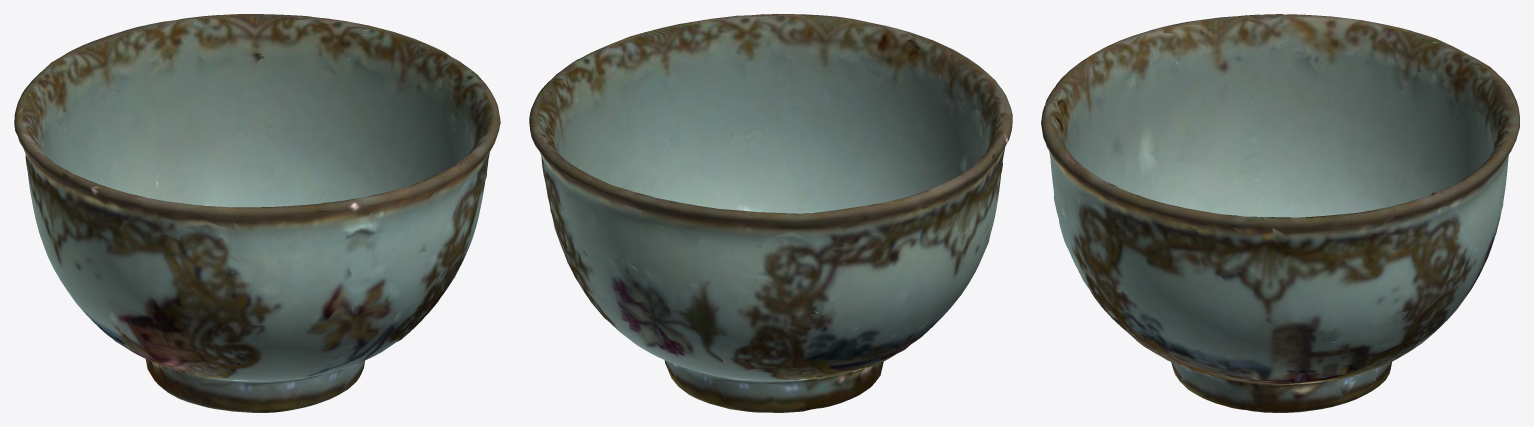
Rendered from bowl.glb.
3 views of the same model, side by side, from view 1: azimuth 30°, elevation 25°; view 2: azimuth 150°, elevation 25°; view 3: azimuth 270°, elevation 25° (orthographic).
Parts seen in each view (by area): view 1: bowl; view 2: bowl; view 3: bowl.
Boxes of the visible parts, x1,y1,x2,y2 form: bowl: (14,14,500,412); bowl: (529,14,1012,412); bowl: (1041,14,1519,412).
Size of the model in its own units: 74.65 by 43.79 by 73.47.
1 material, 1 textured.
